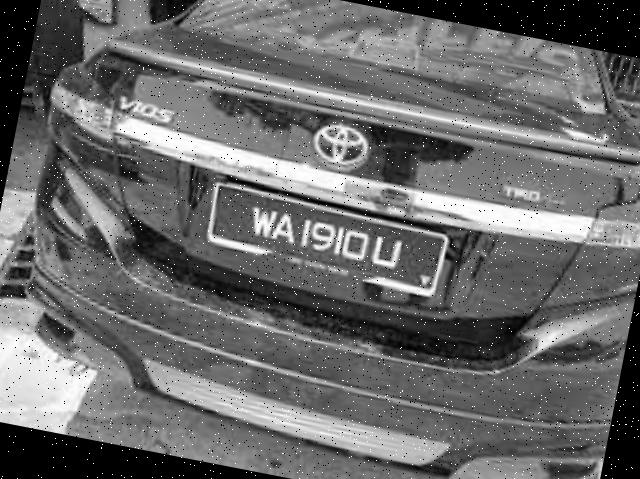License_Plate: (195, 172, 467, 310)
car: (1, 1, 640, 479)
